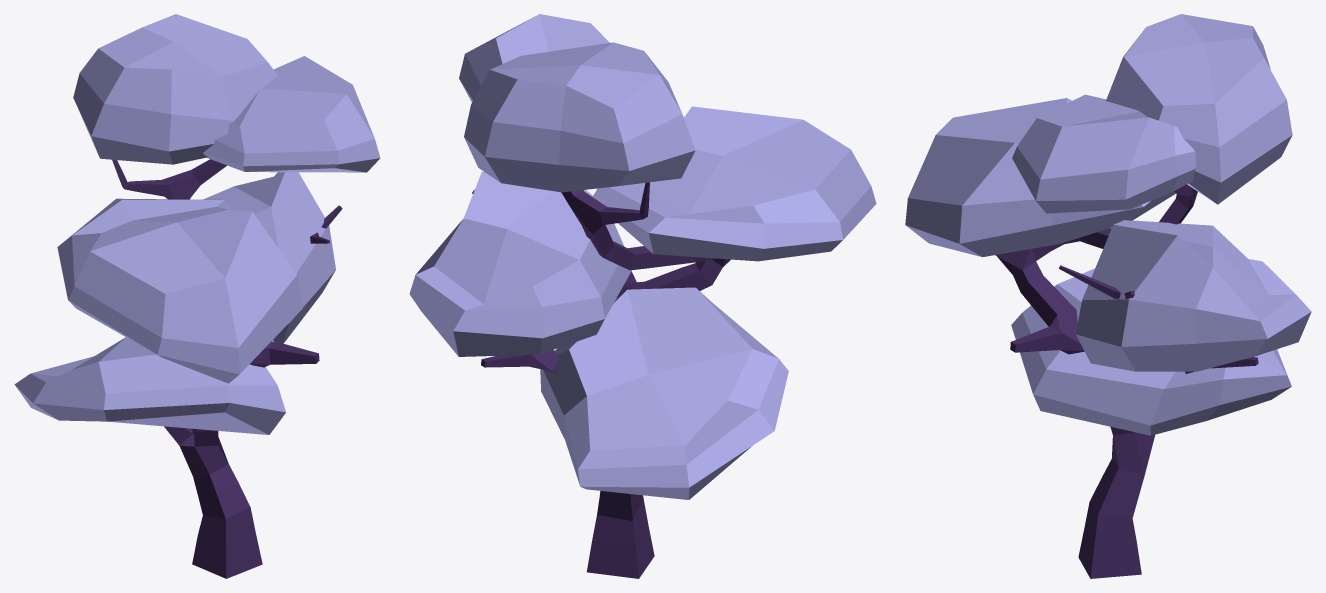
File: Tree_02.fbx
3 renders of one model, left to right at view 1: azimuth 30°, elevation 25°; view 2: azimuth 150°, elevation 25°; view 3: azimuth 270°, elevation 25°, orthographic. The views are drawn at different scales.
Parts seen in each view (by area): view 1: Tree_02; view 2: Tree_02; view 3: Tree_02.
Boxes of the visible parts, x1,y1,x2,y2 form: Tree_02: [14, 14, 380, 578]; Tree_02: [409, 14, 876, 578]; Tree_02: [905, 14, 1311, 578].
Bounding box in the file's own units: 970 × 1416 × 1004.
